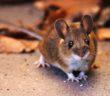rat: (34, 15, 98, 82)
